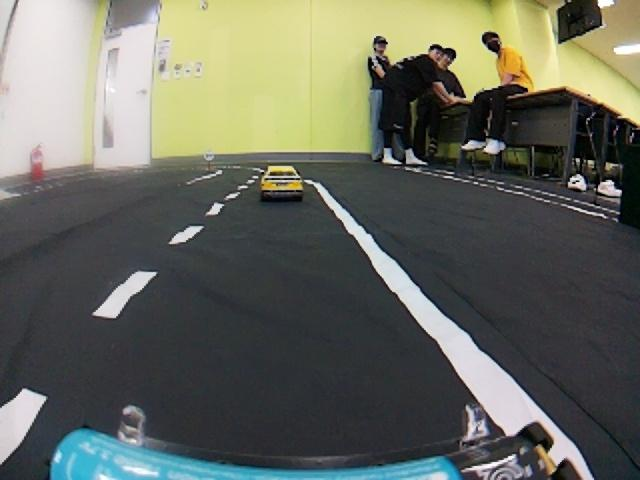car: (255, 156, 309, 203)
straight: (8, 208, 544, 480)
